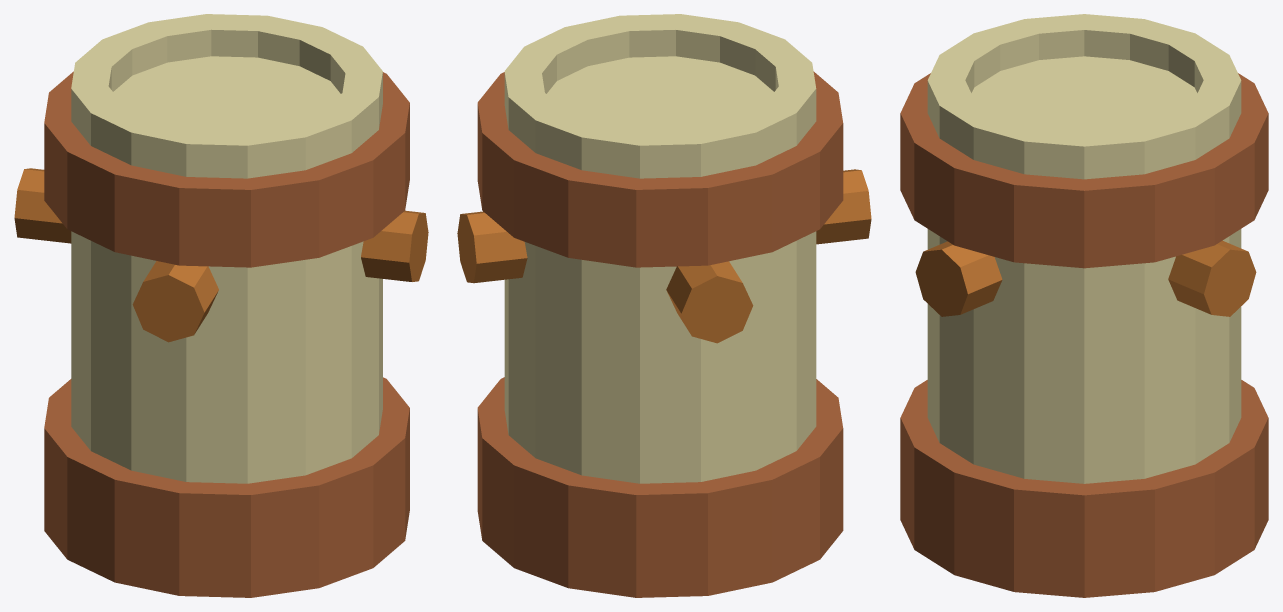
The model's file is wall_tower.fbx.
3 renders of one model, left to right at view 1: azimuth 30°, elevation 25°; view 2: azimuth 150°, elevation 25°; view 3: azimuth 270°, elevation 25°, orthographic.
Parts seen in each view (by area): view 1: wall_tower; view 2: wall_tower; view 3: wall_tower.
Part boxes in pixels (left/top/right/bottom): wall_tower: left=14, top=14, right=428, bottom=597; wall_tower: left=457, top=14, right=871, bottom=597; wall_tower: left=900, top=14, right=1268, bottom=597.
Size of the model in its own units: 156 by 206 by 156.
